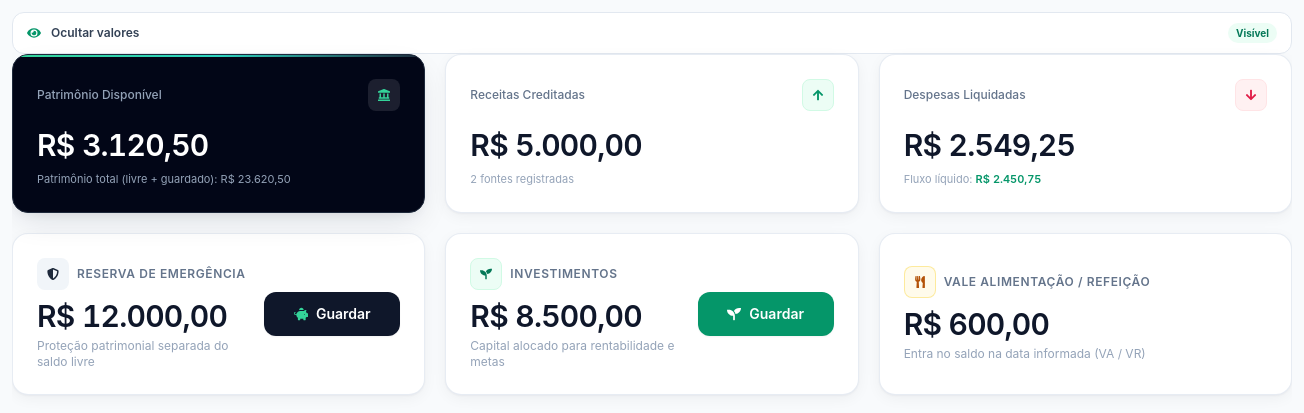
Scenario: PrivacyMode ("Olho Mágico") Toggle › hides and reveals all displayed monetary values when toggled
Expected: the text "R$ 3.120,50" is shown, [37,127,208,163]
Expected: the text "R$ 5.000,00" is shown, [470,127,642,163]
Click the button with test id "privacy-eye-btn": (95, 32) [12,12,1292,54]
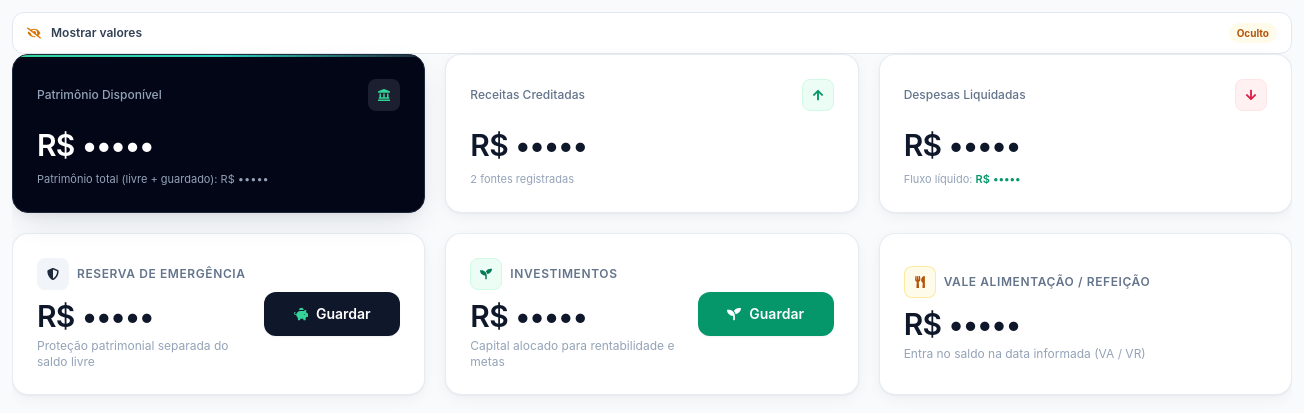
Expected: the text "3.120,50" is gone
Expected: the text "5.000,00" is gone
Click the button with test id "privacy-eye-btn": (97, 32) [12,12,1292,54]
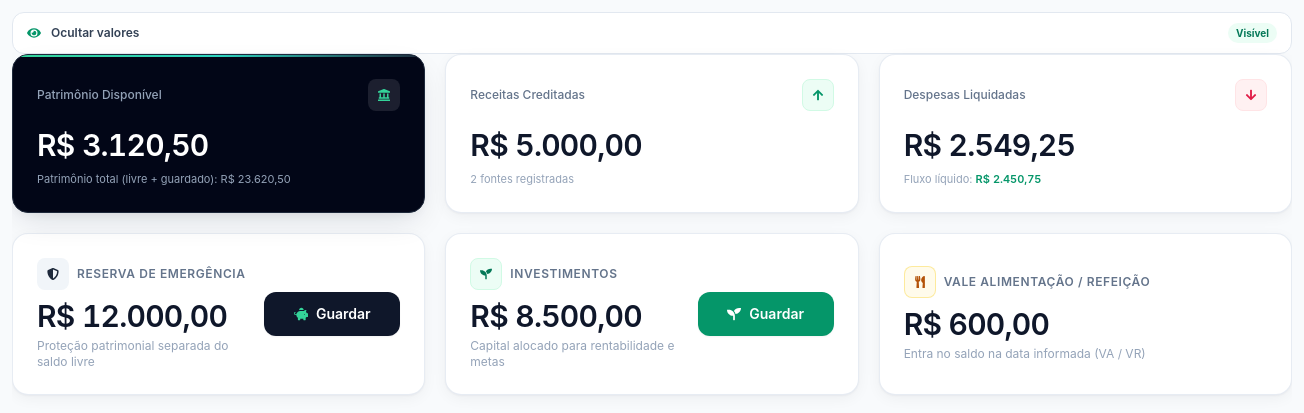
Expected: the text "R$ 3.120,50" is shown, [37,127,208,163]
Expected: the text "R$ 5.000,00" is shown, [470,127,642,163]
